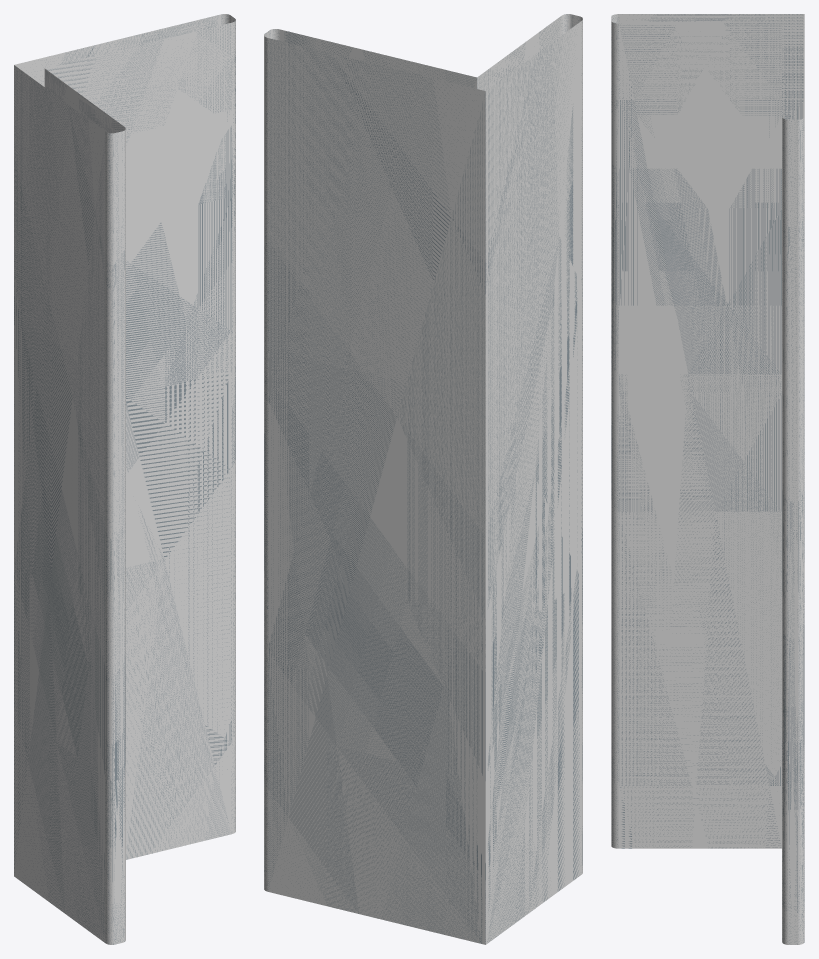
The model's file is PW_CornerFixElem_ds_T2_085x110x010x400.dae.
3 views of the same model, side by side, from view 1: azimuth 30°, elevation 25°; view 2: azimuth 150°, elevation 25°; view 3: azimuth 270°, elevation 25° (orthographic). The views are drawn at different scales.
Parts seen in each view (by area): view 1: group_0; view 2: group_0; view 3: group_0.
Boxes of the visible parts, x1,y1,x2,y2 form: group_0: (14,14,235,944); group_0: (264,14,582,944); group_0: (611,14,804,944).
Bounding box in the file's own units: 43.31 × 33.46 × 157.
